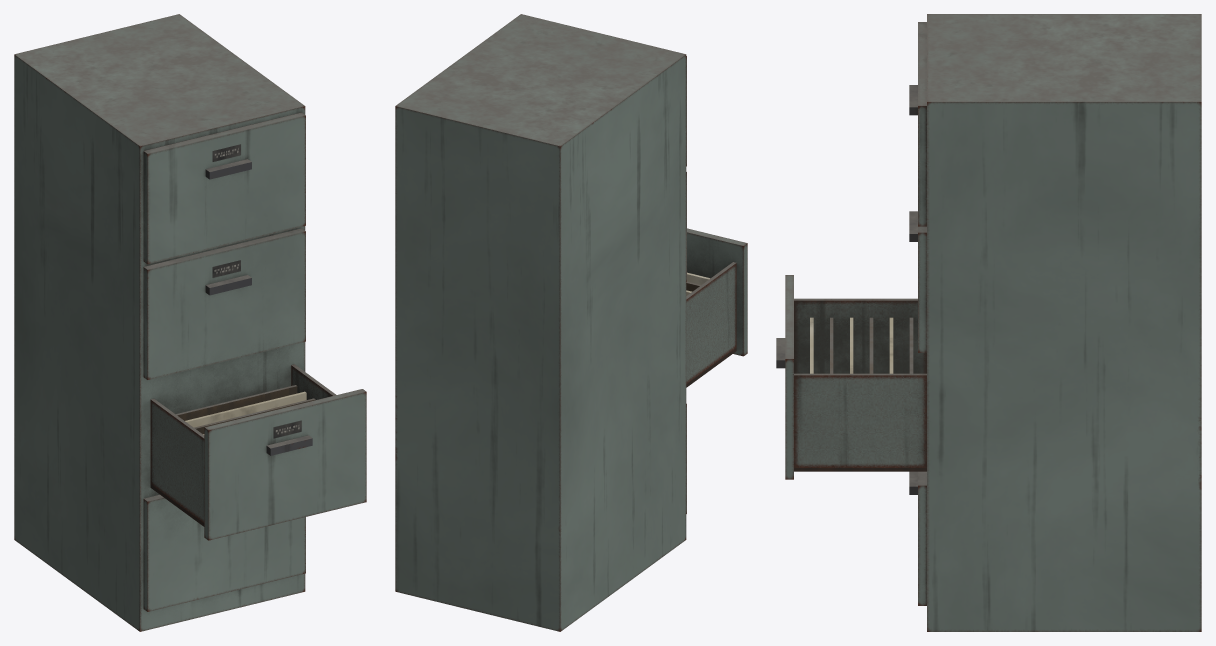
The model's file is SM_FilingCabinet.fbx.
The picture shows the model from 3 angles, left to right: view 1: azimuth 30°, elevation 25°; view 2: azimuth 150°, elevation 25°; view 3: azimuth 270°, elevation 25°; orthographic projection. The views are drawn at different scales.
Parts seen in each view (by area): view 1: SM_FilingCabinet; view 2: SM_FilingCabinet; view 3: SM_FilingCabinet.
Boxes of the visible parts, x1,y1,x2,y2 form: SM_FilingCabinet: (14, 14, 366, 631); SM_FilingCabinet: (395, 14, 747, 631); SM_FilingCabinet: (776, 14, 1201, 631).
Bounding box in the file's own units: 0.47 × 1.32 × 0.96.
1 material, 1 textured.
